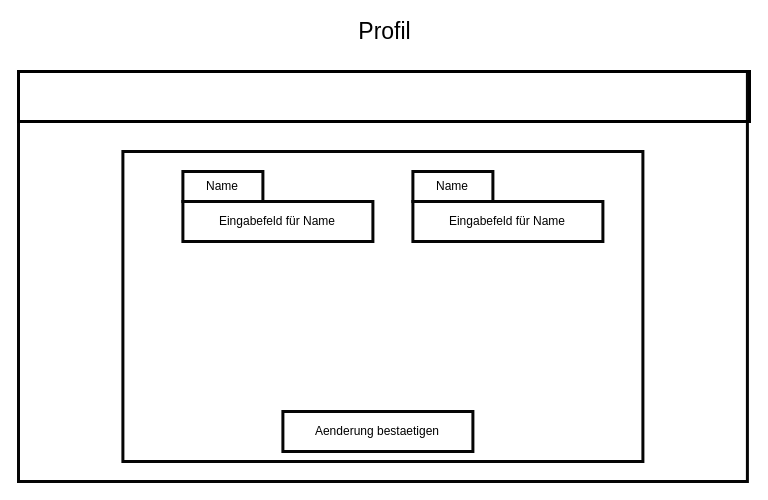
The diagram is 768 pixels wide and 500 high, and some of its shapes have lost their labels. Here are the shapes that lost their labels. From the top down, the box of each, then its label:
(16, 70, 750, 122): Header
(121, 150, 644, 462): persoenliche Infos
